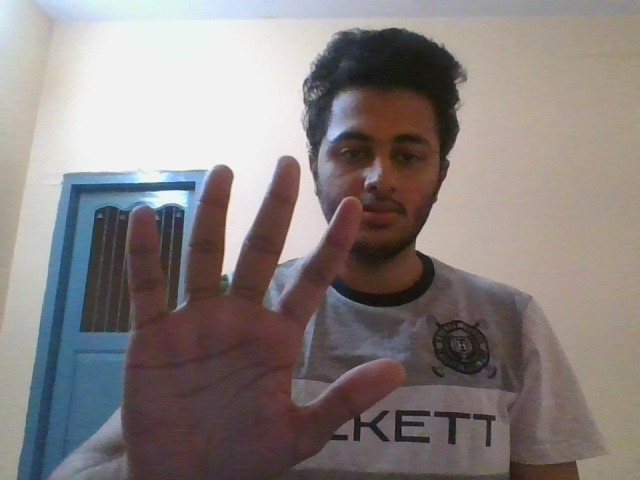Goodbye: (121, 154, 411, 475)
